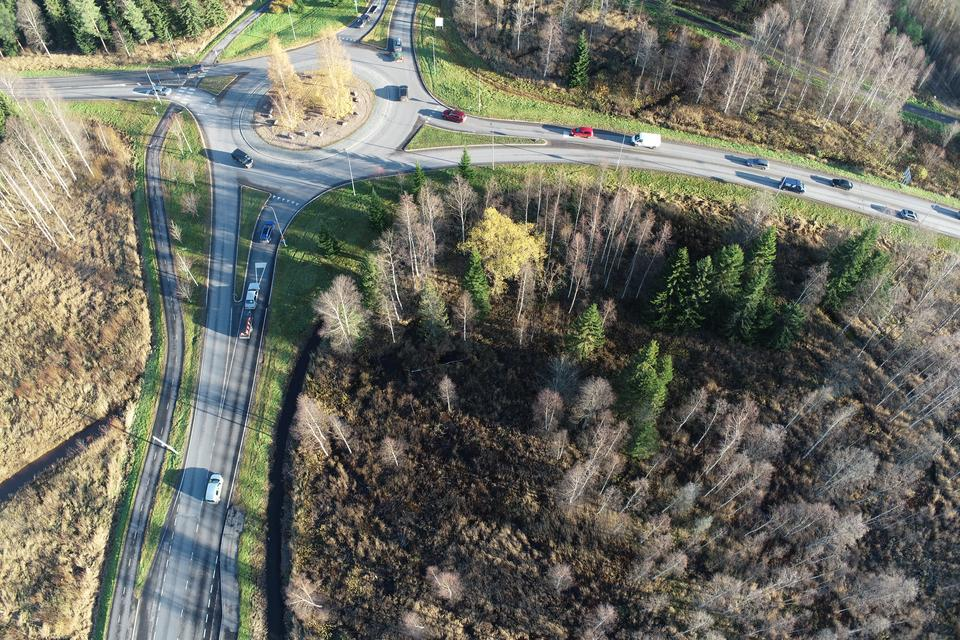intersection: (152, 56, 205, 128)
roundabout: (210, 2, 460, 199)
